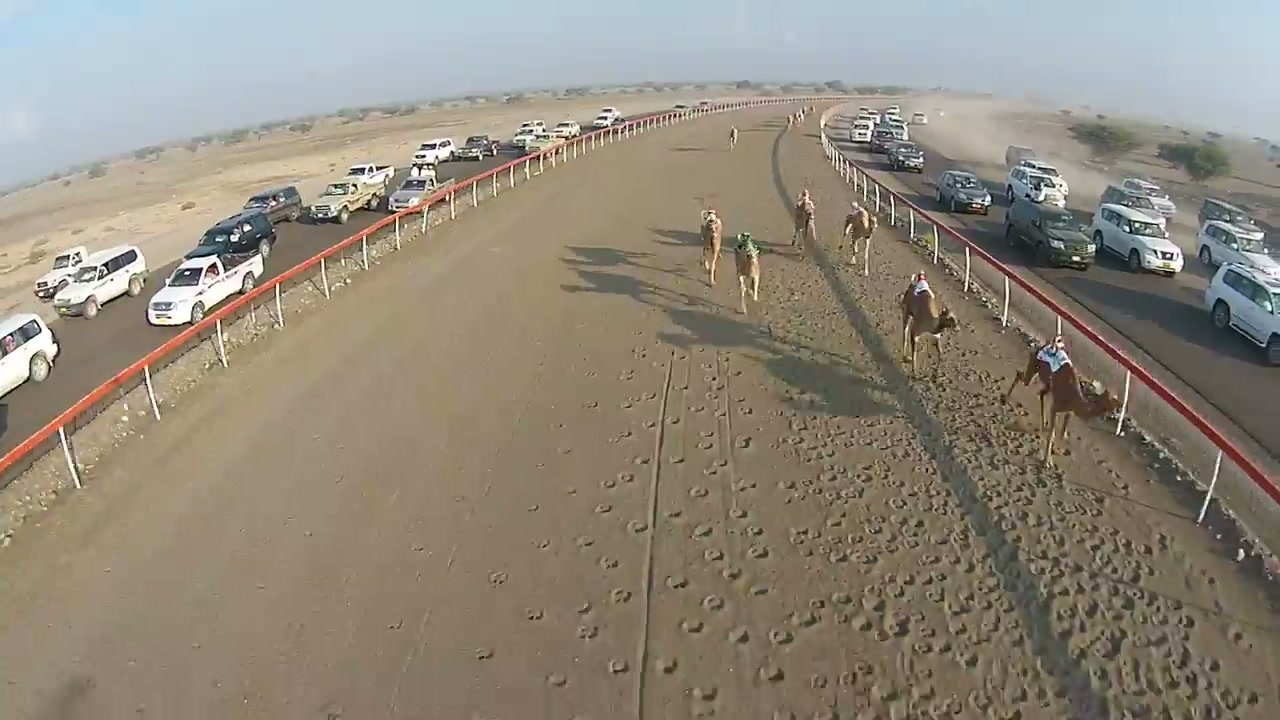animal_footprint: (377, 232, 1279, 719), (387, 346, 676, 716)
